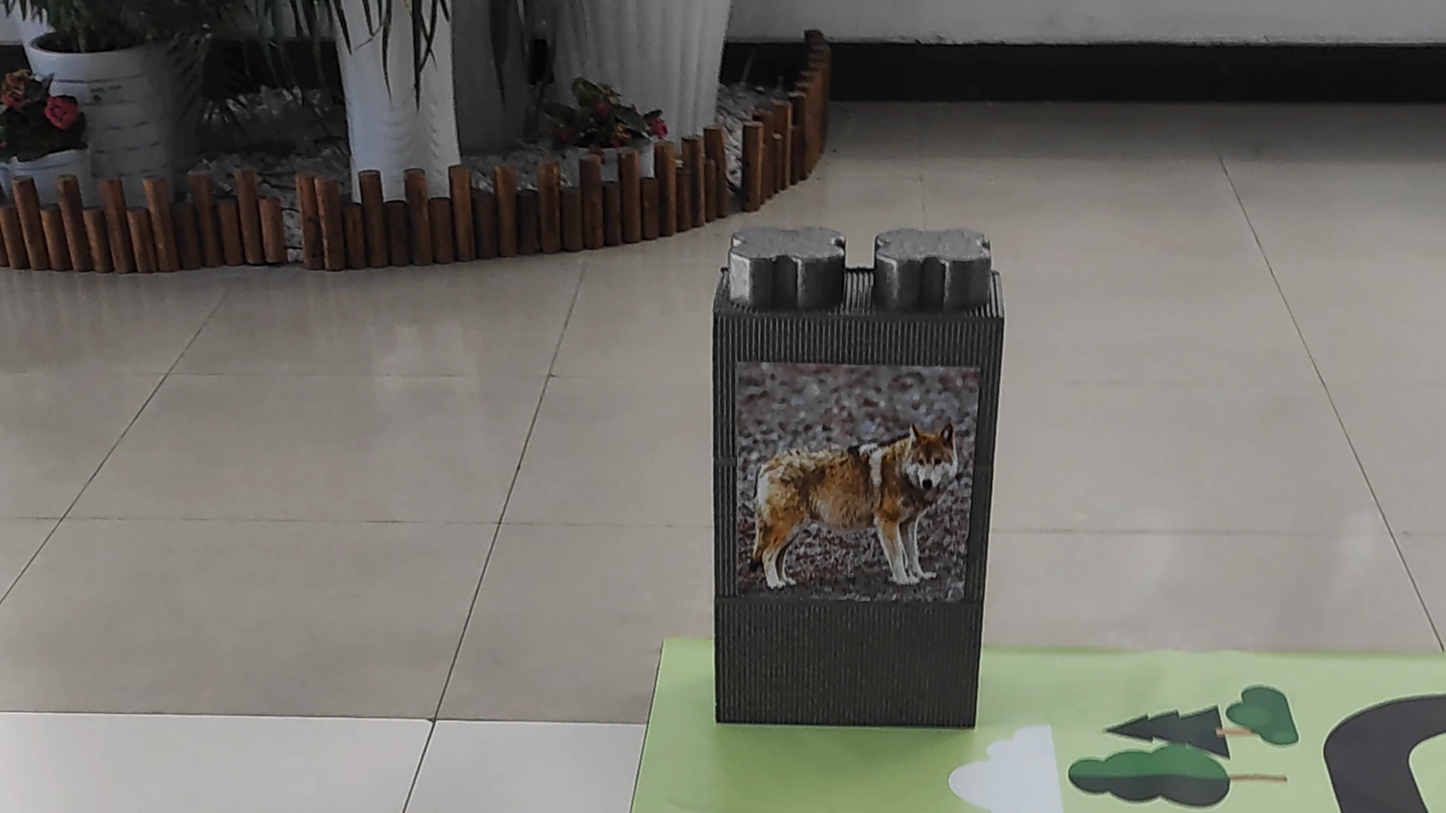wolf: (743, 364, 969, 598)
